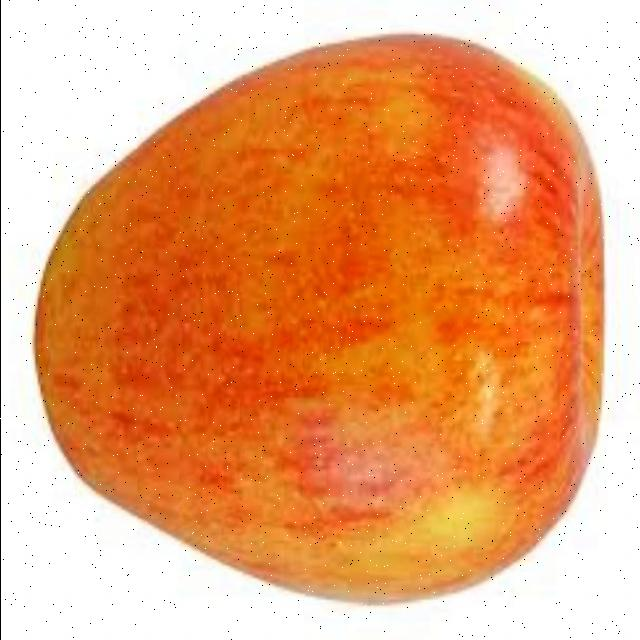HEALTHY: (31, 25, 624, 584)
